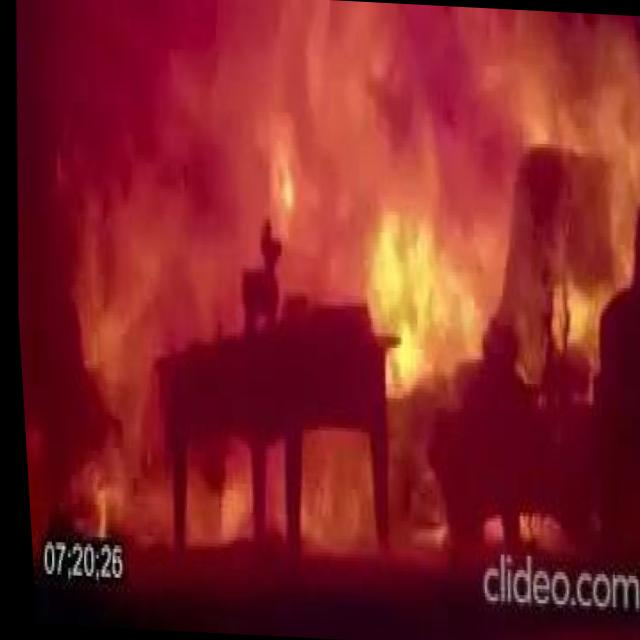fire: (41, 69, 187, 538), (351, 146, 494, 402), (227, 2, 386, 218), (463, 14, 640, 192), (513, 218, 610, 410), (374, 409, 454, 570), (293, 426, 373, 562), (181, 441, 252, 549), (511, 506, 600, 560), (254, 442, 282, 543)
